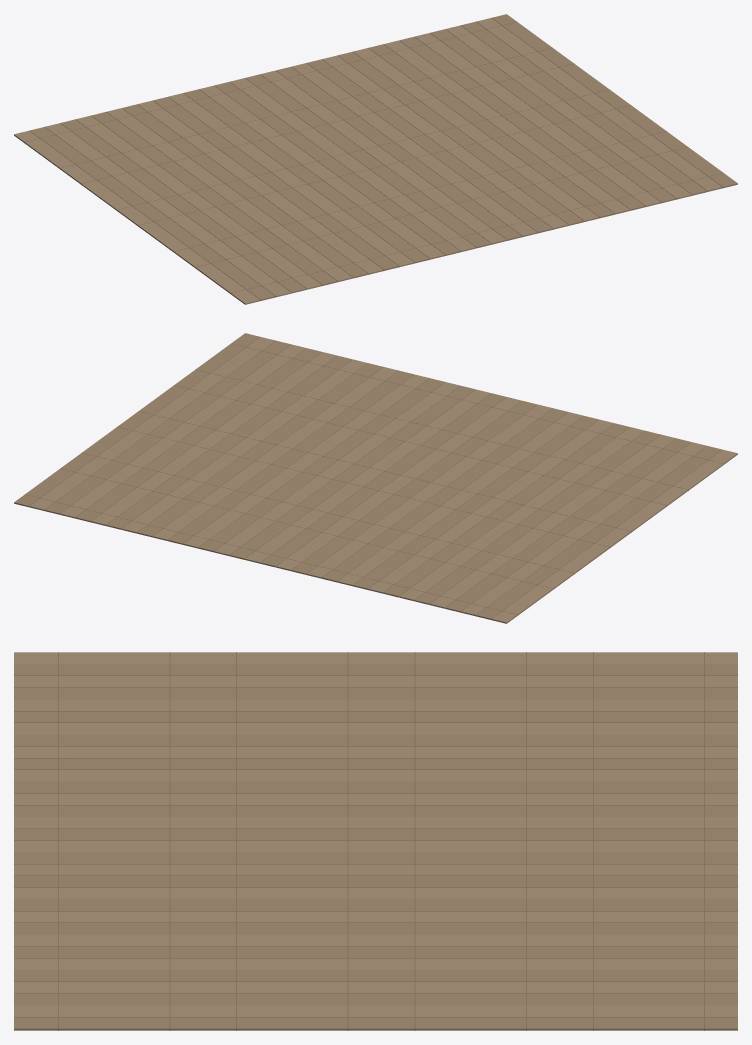
Rendered from home_floor_boards_s3__walnut.glb.
3 views of the same model, one above another, from view 1: azimuth 30°, elevation 25°; view 2: azimuth 150°, elevation 25°; view 3: azimuth 270°, elevation 25° (orthographic). The views are drawn at different scales.
Bounding box in the file's own units: 16 × 0.042 × 13.
